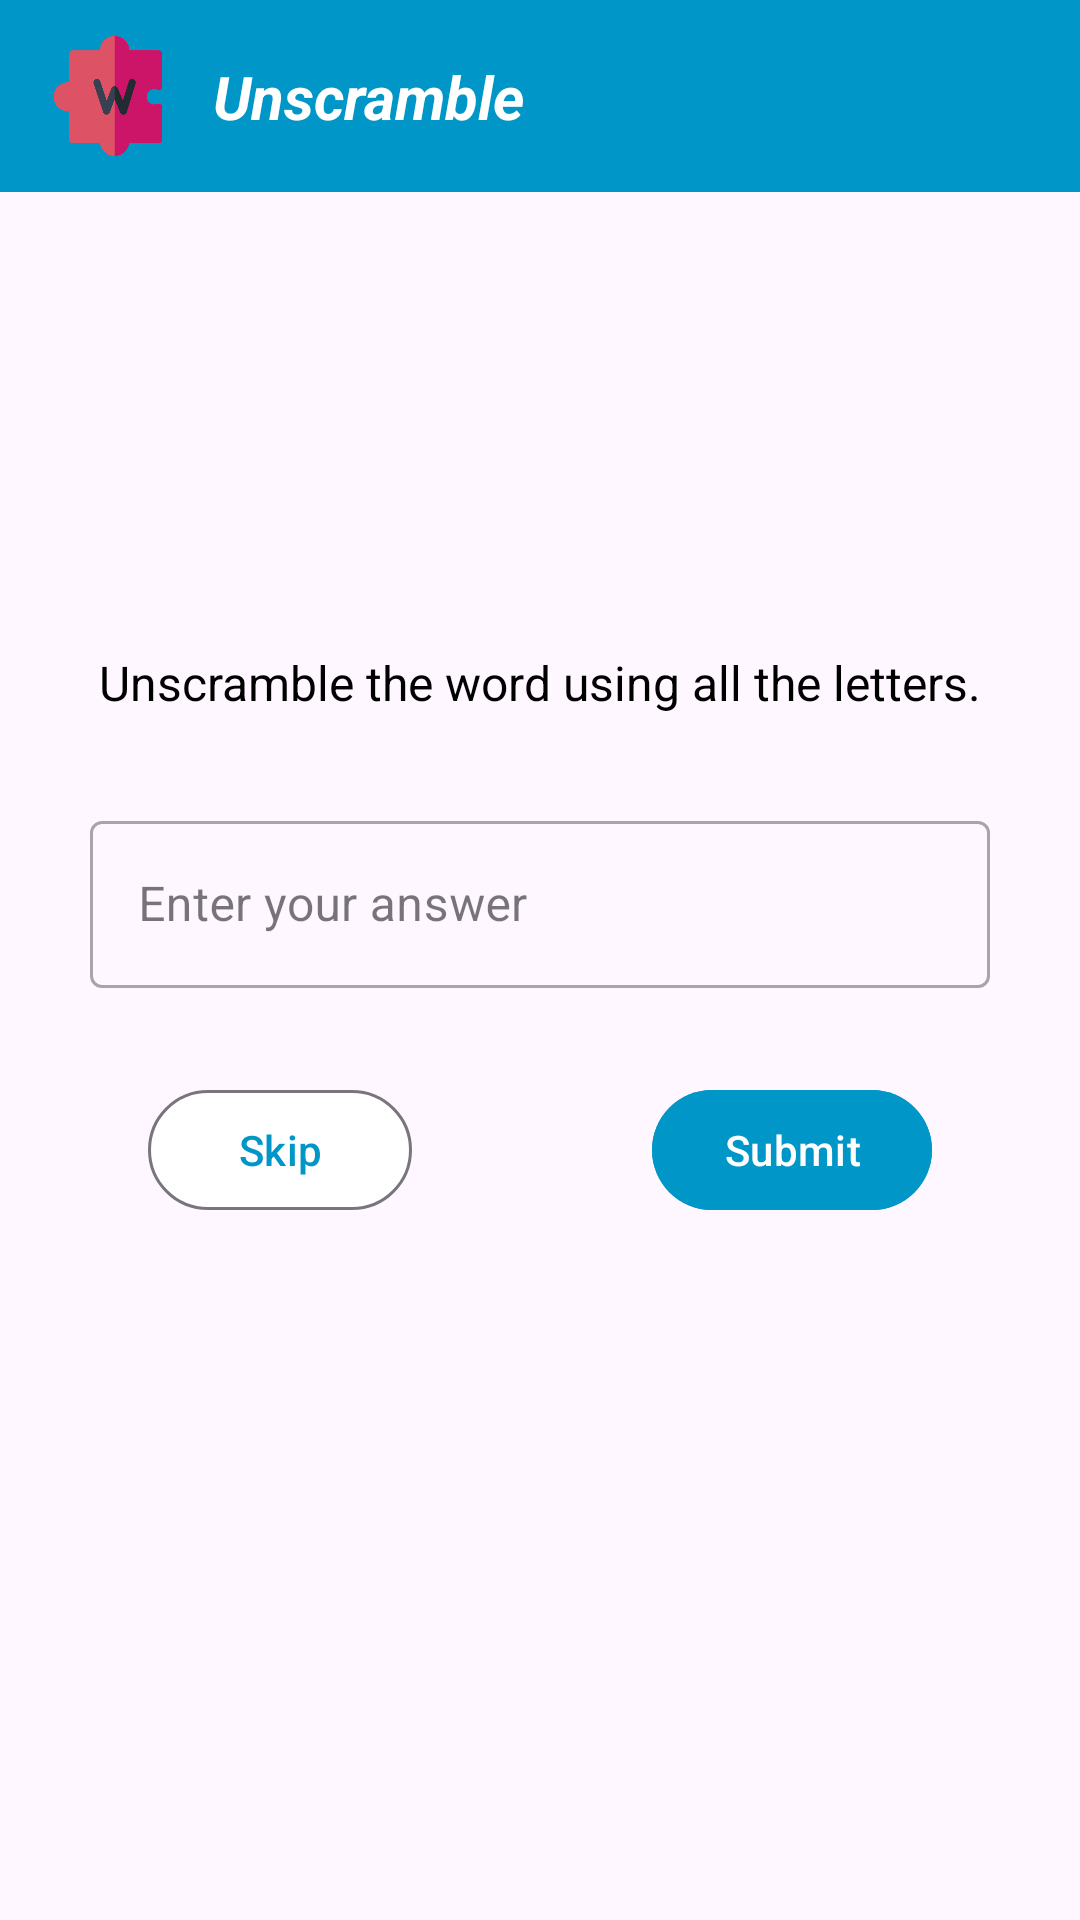

Icons on this 1080w x 1920h Android screen, each with its box as [x1, y1, x2, y2]:
app: [54, 36, 162, 156]
